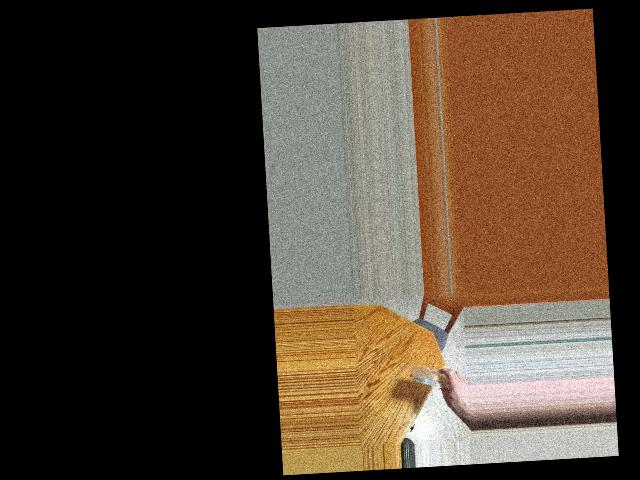cheese: (415, 361, 449, 391)
